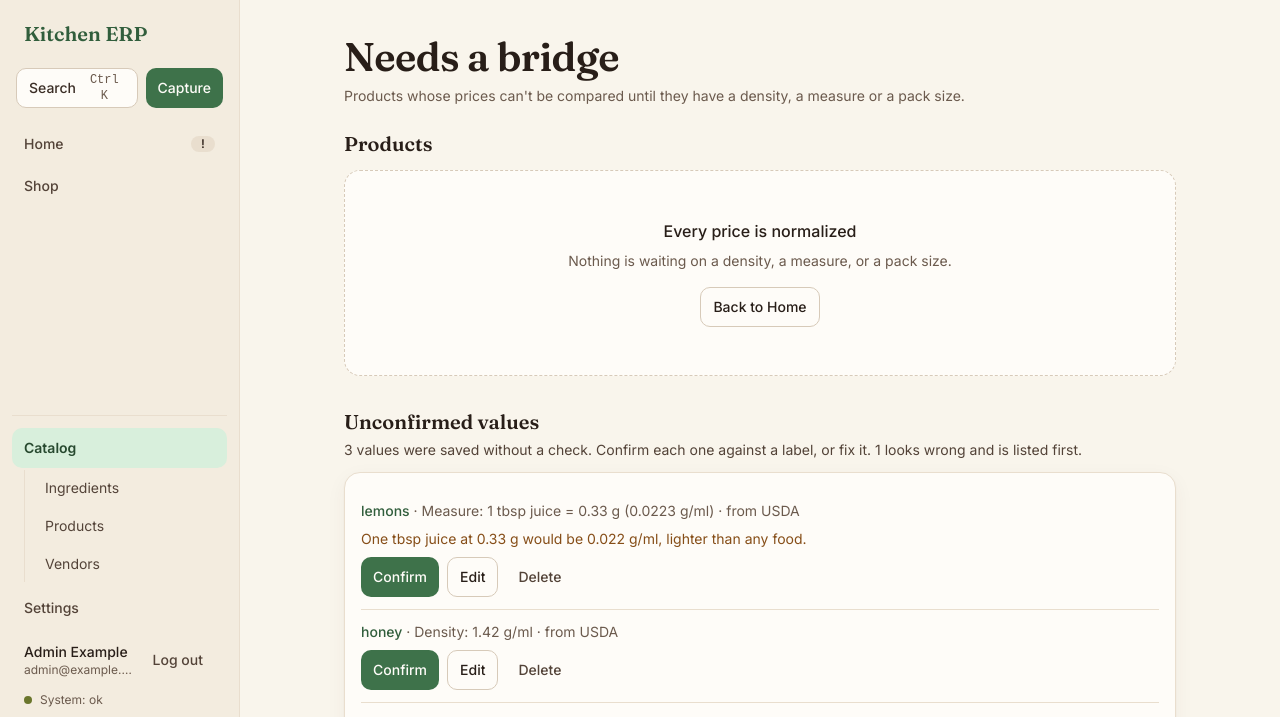
Test: Unconfirmed values on Needs a bridge (issue 356) › confirms a value, and it leaves the list without a reload
Click the button with aria-label "Confirm density 1.42 g/ml for honey".
click(400, 670)  # box [361,650,439,690]
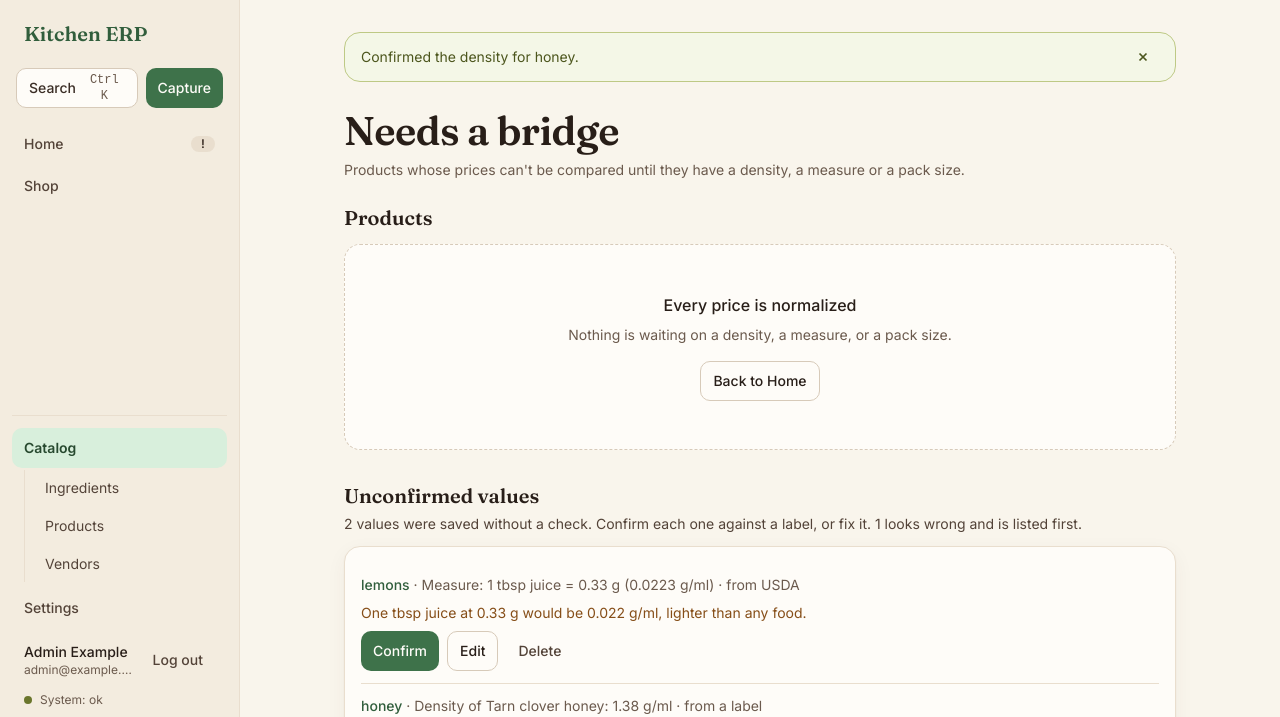
Expected: the message with test id "notice" reads "Confirmed the density for honey.", [361,48,579,65]
